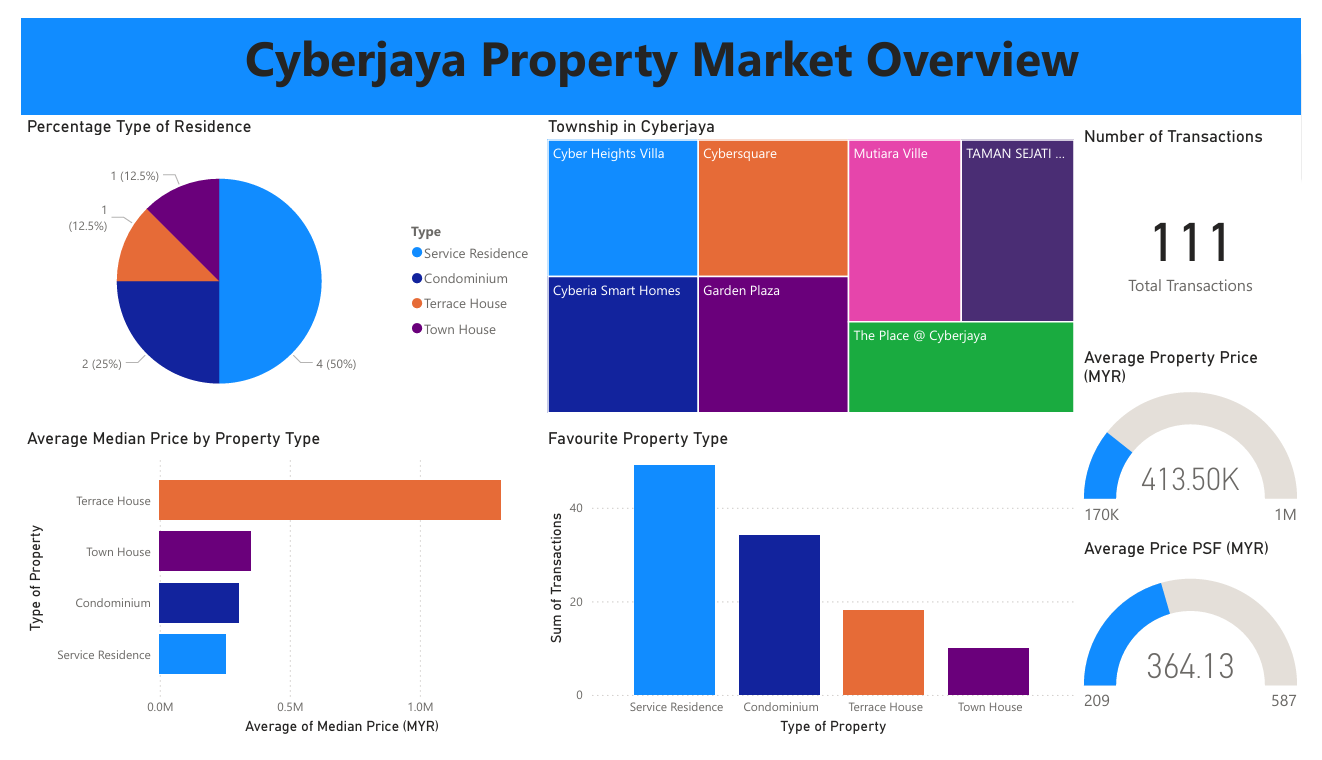

The page's visual inventory and layout, read from the dashboard file:
{"tool":"powerbi","page":{"name":"Page 1","canvas":[1280,720],"ordinal":0},"visuals":[{"type":"barChart","title":"Average Median Price by Property Type","fields":{"Y":["Avg(malaysia_house_price_data_2025.Median_Price)"],"Category":["malaysia_house_price_data_2025.Type"],"Series":["malaysia_house_price_data_2025.Type"]},"box":[0,408.9,521.4,311.5],"z":0},{"type":"columnChart","title":"Favourite Property Type","fields":{"Y":["Sum(malaysia_house_price_data_2025.Transactions)"],"Category":["malaysia_house_price_data_2025.Type"],"Series":["malaysia_house_price_data_2025.Type"]},"box":[521.4,408.9,535.2,311.5],"z":1000},{"type":"pieChart","title":"Percentage Type of Residence","fields":{"Category":["malaysia_house_price_data_2025.Type"],"Y":["CountNonNull(malaysia_house_price_data_2025.Type)"]},"box":[0,97.4,521.4,311.5],"z":2000},{"type":"card","title":"Number of Transactions","fields":{"Values":["Sum(malaysia_house_price_data_2025.Transactions)"]},"box":[1056.6,107,223.7,220.9],"z":3000},{"type":"gauge","title":"Average Price PSF (MYR)","fields":{"Y":["Avg(malaysia_house_price_data_2025.Median_PSF)"],"MinValue":["Min(malaysia_house_price_data_2025.Median_PSF)1"],"MaxValue":["Max(malaysia_house_price_data_2025.Median_PSF)2"]},"box":[1056.6,518.7,223.7,201.7],"z":4000},{"type":"gauge","title":"Average Property Price (MYR) ","fields":{"Y":["Avg(malaysia_house_price_data_2025.Median_Price)"],"MinValue":["Min(malaysia_house_price_data_2025.Median_Price)1"],"MaxValue":["Max(malaysia_house_price_data_2025.Median_Price)2"]},"box":[1056.6,328,223.7,190.7],"z":5000},{"type":"treemap","title":"Township in Cyberjaya","fields":{"Group":["malaysia_house_price_data_2025.Township"],"Values":["Count(malaysia_house_price_data_2025.Township)"]},"box":[521.4,97.4,535.2,301.9],"z":6000},{"type":"textbox","box":[0,0,1280.3,97.4],"z":7000}]}

Visuals, with their boxes in screenshot pixels (x1, y1, x2, y2), scaled from the page's 1280x720 canvas onto the 1322x760 screenshot:
"Average Median Price by Property Type" barChart: <region>0, 432, 539, 759</region>
"Favourite Property Type" columnChart: <region>539, 432, 1091, 759</region>
"Percentage Type of Residence" pieChart: <region>0, 103, 539, 432</region>
"Number of Transactions" card: <region>1091, 113, 1321, 346</region>
"Average Price PSF (MYR)" gauge: <region>1091, 548, 1321, 759</region>
"Average Property Price (MYR) " gauge: <region>1091, 346, 1321, 548</region>
"Township in Cyberjaya" treemap: <region>539, 103, 1091, 421</region>
textbox: <region>0, 0, 1321, 103</region>
